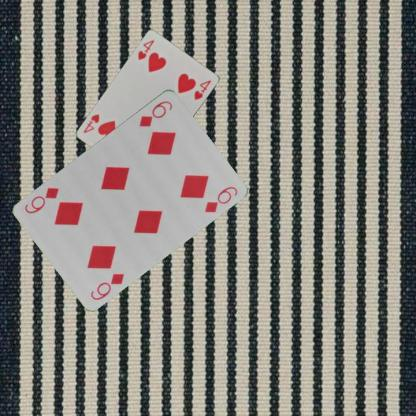4h: (135, 38, 156, 61)
6d: (136, 97, 174, 128), (88, 270, 125, 301)
